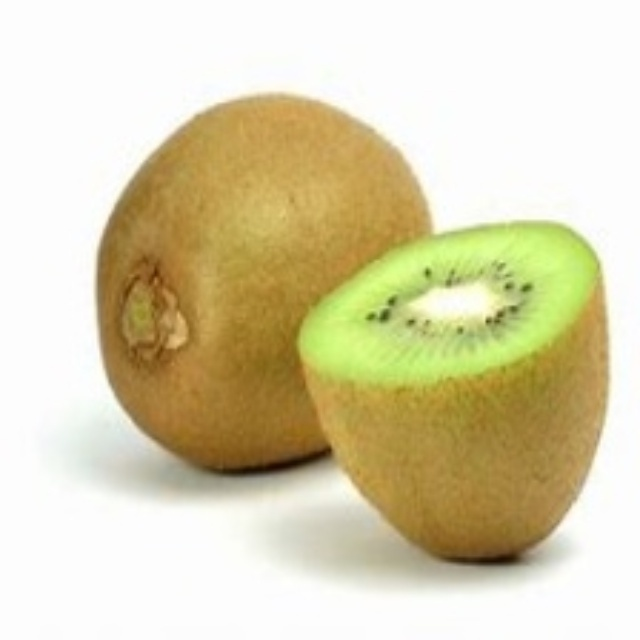kiwi: (93, 91, 444, 475), (296, 222, 602, 565)
